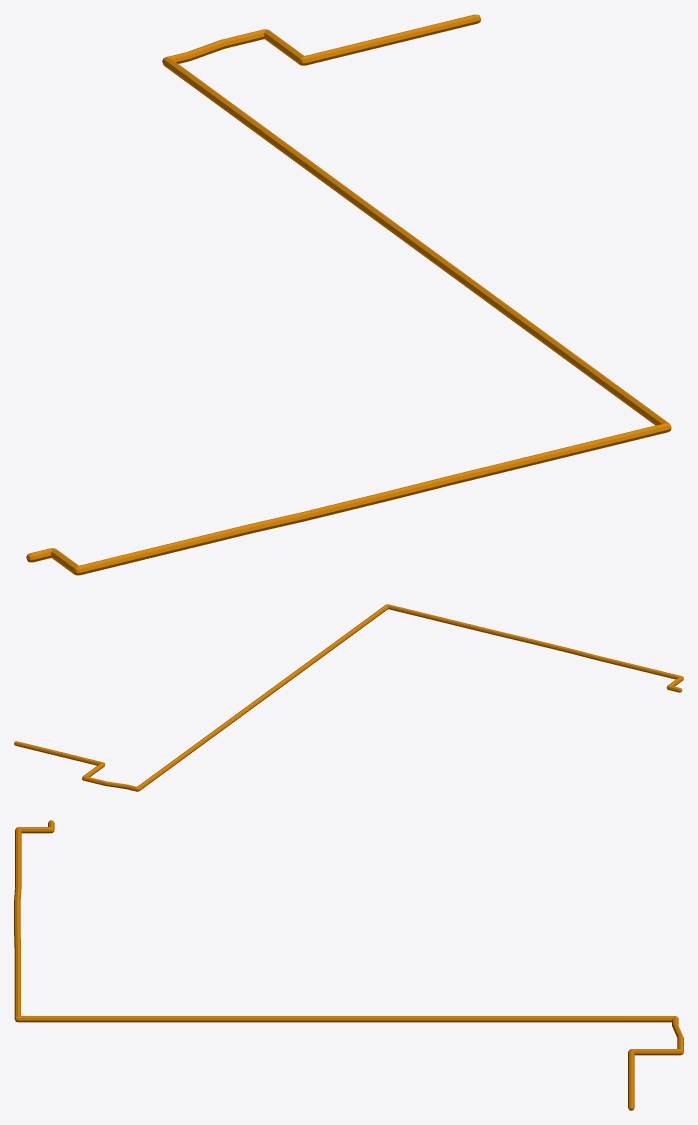
3 renders of one model, top to bottom at view 1: azimuth 30°, elevation 25°; view 2: azimuth 150°, elevation 25°; view 3: azimuth 270°, elevation 25°, orthographic. The views are drawn at different scales.
Bounding box in the file's own units: 2067 × 20 × 2038.
